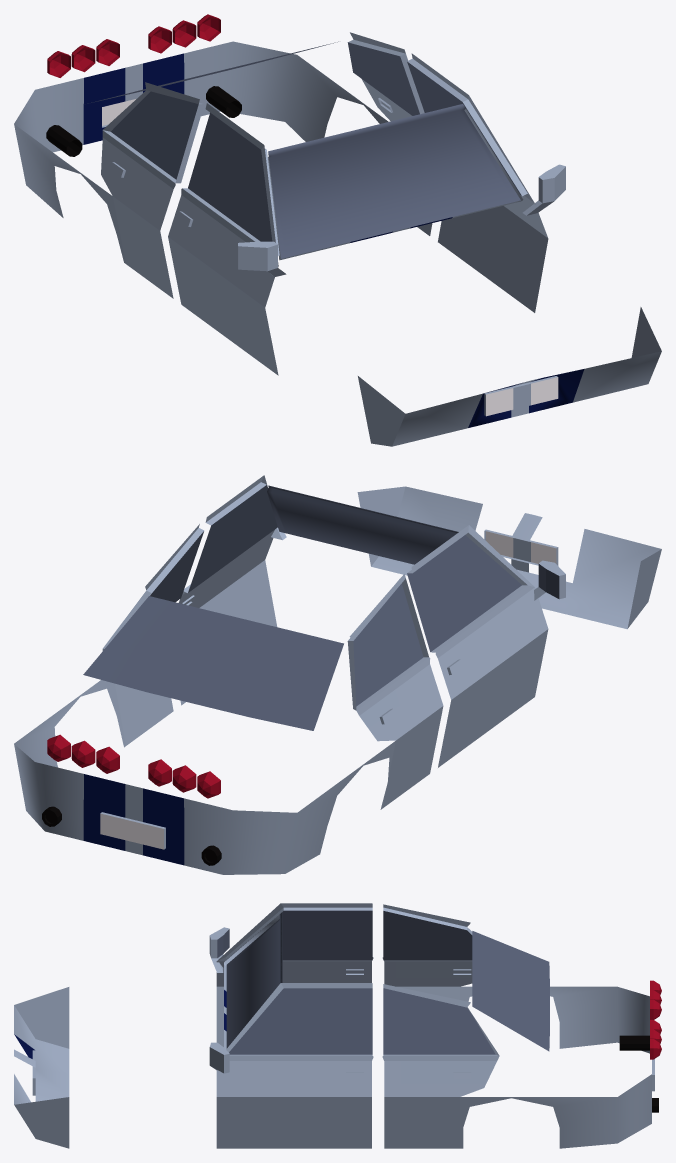
The model's file is car1Bumper1.fbx.
3 views of the same model, one above another, from view 1: azimuth 30°, elevation 25°; view 2: azimuth 150°, elevation 25°; view 3: azimuth 270°, elevation 25° (orthographic). The views are drawn at different scales.
Parts seen in each view (by area): view 1: Bumper; view 2: Bumper; view 3: Bumper.
Boxes of the visible parts, left/top/right/bottom form: Bumper: left=14, top=14, right=661, bottom=446; Bumper: left=14, top=475, right=661, bottom=874; Bumper: left=14, top=903, right=661, bottom=1148.
Bounding box in the file's own units: 2.81 × 1.6 × 6.03.
